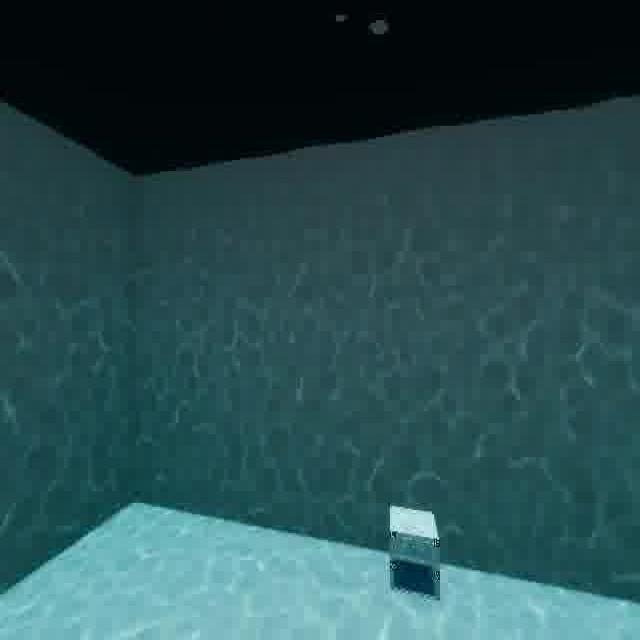Docking Station: (383, 497, 449, 614)
